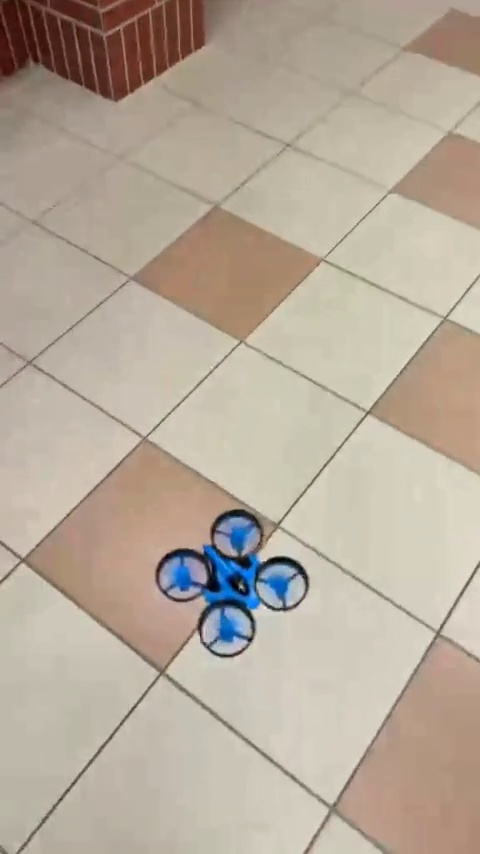drone: (156, 512, 307, 656)
